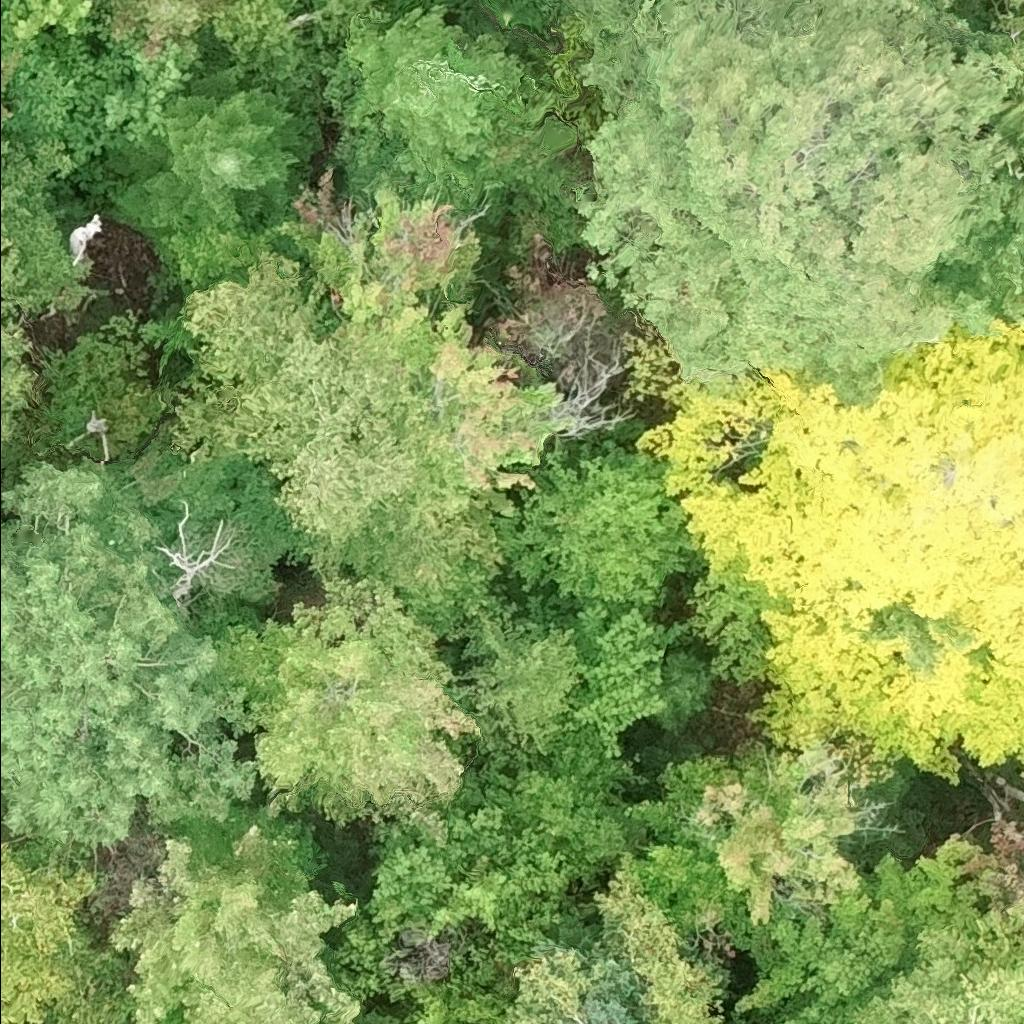crown: (634, 309, 1023, 786), (568, 0, 1023, 403), (141, 246, 520, 639), (0, 457, 261, 856), (273, 188, 575, 494), (196, 575, 481, 846), (109, 803, 359, 1023), (624, 735, 862, 954), (337, 1, 568, 226), (734, 832, 1001, 1023), (105, 60, 322, 235), (492, 435, 699, 616), (366, 802, 584, 944), (480, 724, 657, 883), (810, 900, 1023, 1023), (0, 839, 136, 1023), (448, 593, 581, 771), (0, 205, 92, 456), (593, 854, 727, 1023), (561, 595, 692, 761), (64, 21, 211, 167), (686, 558, 788, 684), (164, 959, 358, 1023), (153, 214, 298, 293), (989, 78, 1023, 322), (106, 0, 231, 58), (398, 975, 508, 1023), (582, 955, 648, 1023), (0, 0, 94, 41), (980, 0, 1023, 73), (557, 0, 630, 35), (610, 1023, 613, 1023)
